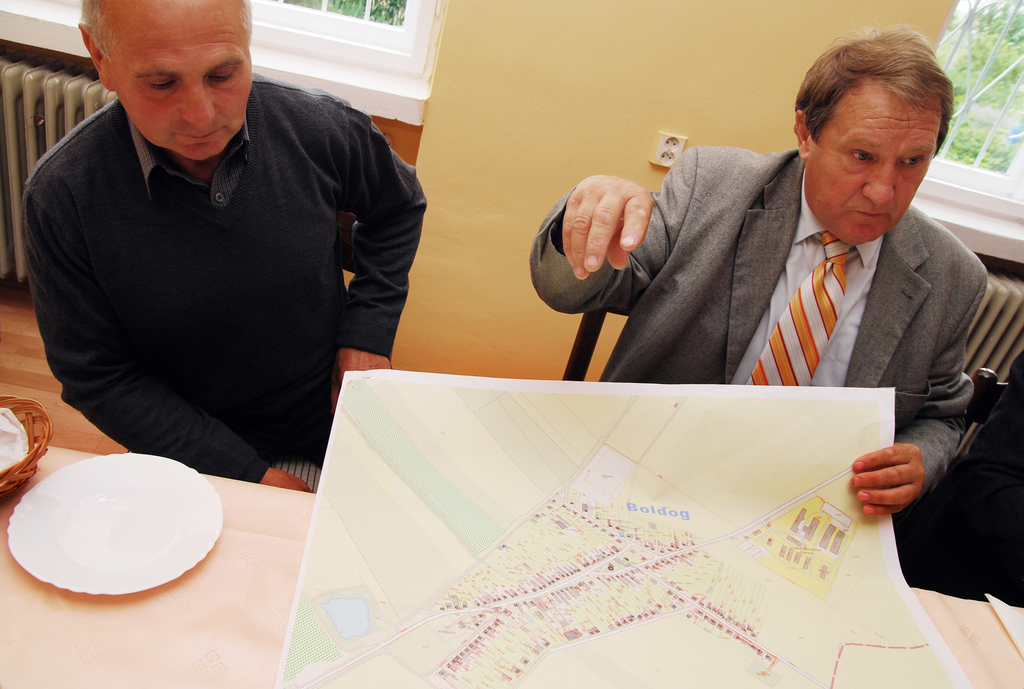plate: (9, 438, 207, 592)
